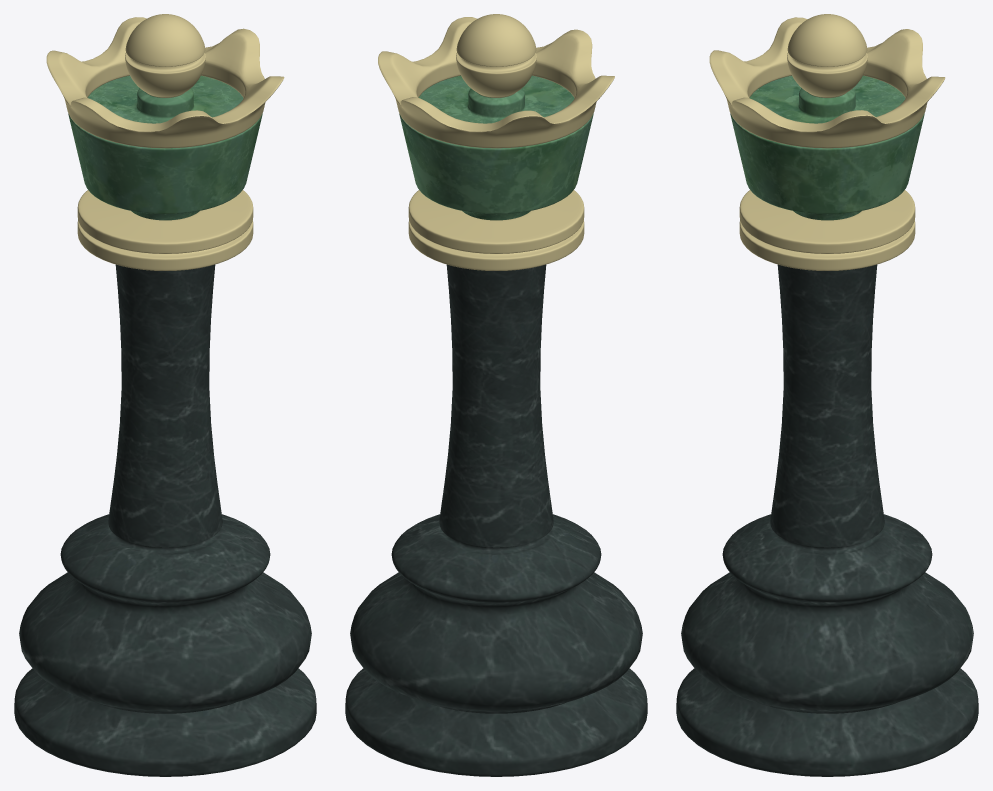
File: B_Queen.glb
3 views of the same model, side by side, from view 1: azimuth 30°, elevation 25°; view 2: azimuth 150°, elevation 25°; view 3: azimuth 270°, elevation 25° (orthographic).
Visible parts, largest first — view 1: Queen_B; view 2: Queen_B; view 3: Queen_B.
Part boxes in pixels (box(x1,y1,x2,y2)): Queen_B: box(14, 14, 316, 776); Queen_B: box(345, 14, 647, 776); Queen_B: box(676, 14, 978, 776).
Size of the model in its own units: 0.0533 by 0.1361 by 0.0533.
1 material, 1 textured.
